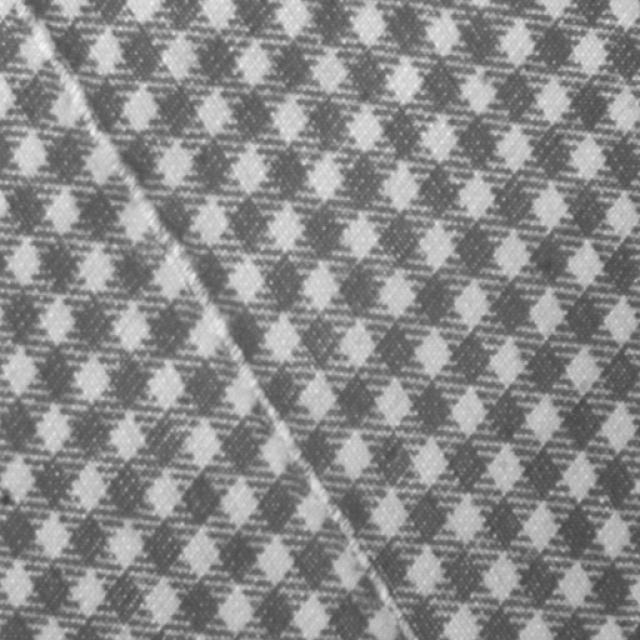Thread-Defect: (11, 18, 421, 639)
